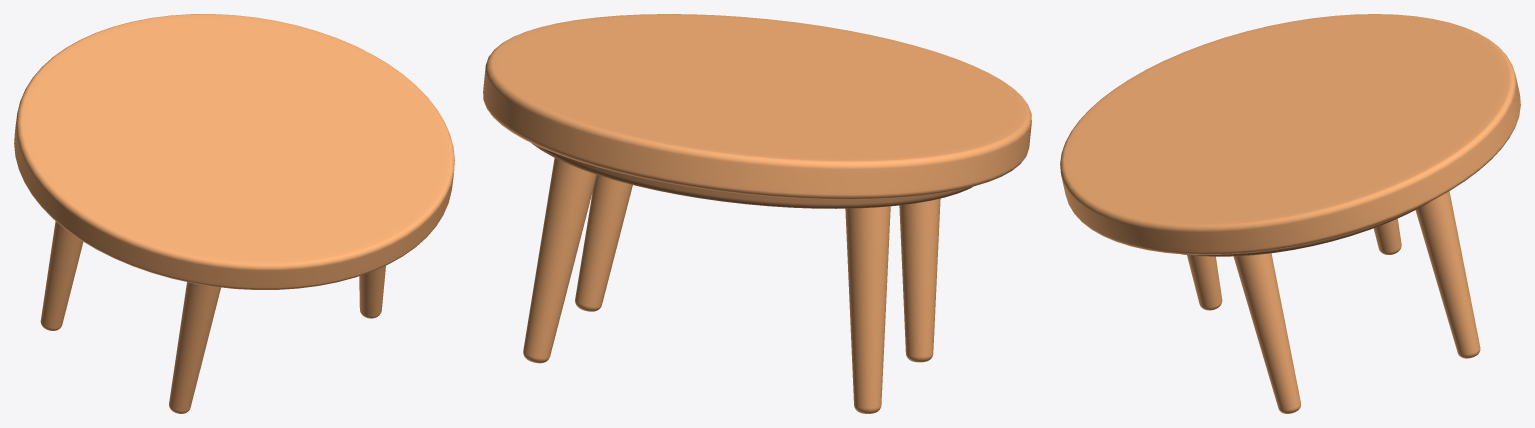
File: Coffe Table.fbx
3 views of the same model, side by side, from view 1: azimuth 30°, elevation 25°; view 2: azimuth 150°, elevation 25°; view 3: azimuth 270°, elevation 25° (orthographic). The views are drawn at different scales.
Visible parts, largest first — view 1: Cylinder.025, Cylinder.029, Cylinder.027, Cylinder.030; view 2: Cylinder.025, Cylinder.027, Cylinder.028, Cylinder.029, Cylinder.030, Cylinder.026; view 3: Cylinder.025, Cylinder.030, Cylinder.028, Cylinder.029, Cylinder.027, Cylinder.026.
Boxes of the visible parts, x1,y1,x2,y2 form: Cylinder.025: (14, 14, 454, 289); Cylinder.029: (169, 282, 220, 413); Cylinder.027: (40, 221, 83, 330); Cylinder.030: (359, 265, 385, 318); Cylinder.025: (483, 14, 1031, 199); Cylinder.027: (845, 206, 890, 413); Cylinder.028: (523, 158, 596, 363); Cylinder.029: (899, 198, 940, 362); Cylinder.030: (575, 175, 632, 311); Cylinder.026: (531, 143, 972, 208); Cylinder.025: (1060, 14, 1520, 254); Cylinder.030: (1233, 253, 1300, 413); Cylinder.028: (1415, 191, 1480, 358); Cylinder.029: (1187, 255, 1222, 310); Cylinder.027: (1373, 218, 1401, 254); Cylinder.026: (1182, 201, 1430, 256).
Bounding box in the file's own units: 536 × 352 × 530.
